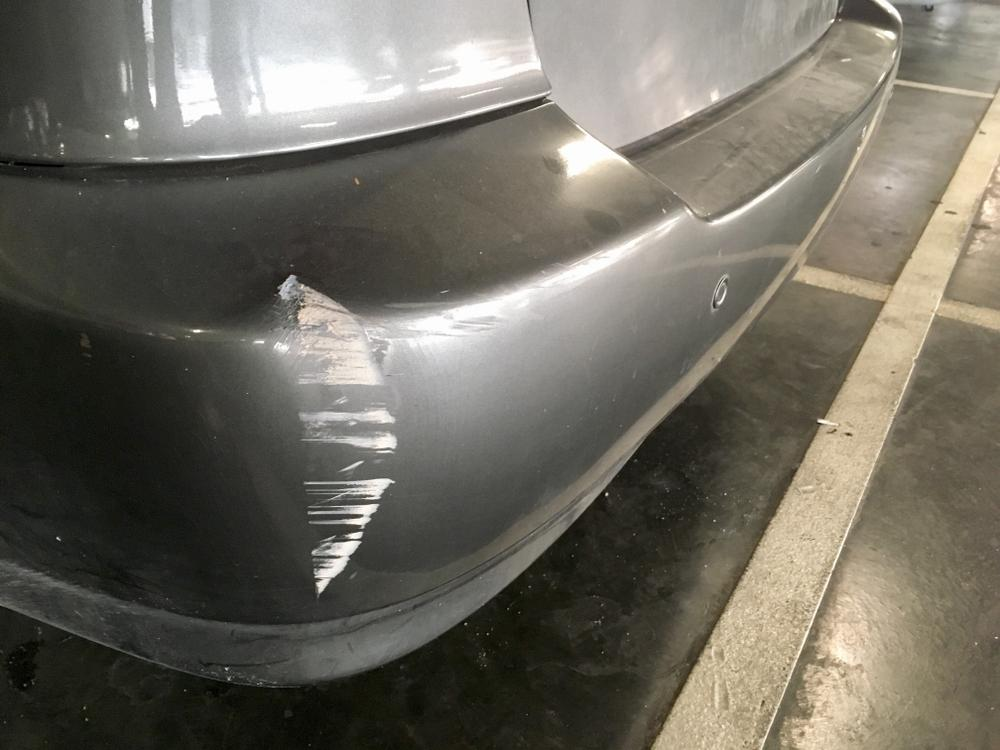scratch: (272, 265, 404, 597)
